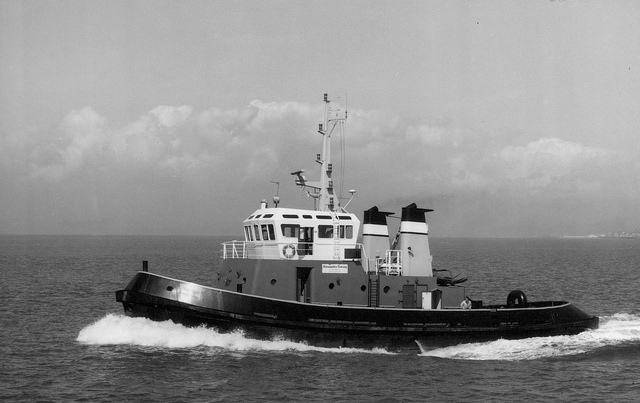tug_boat: (117, 94, 601, 348)
